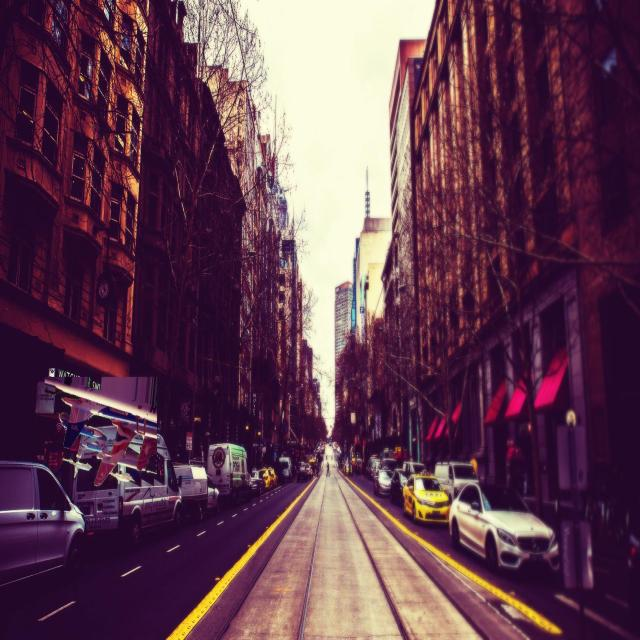airplane: (45, 376, 158, 487)
